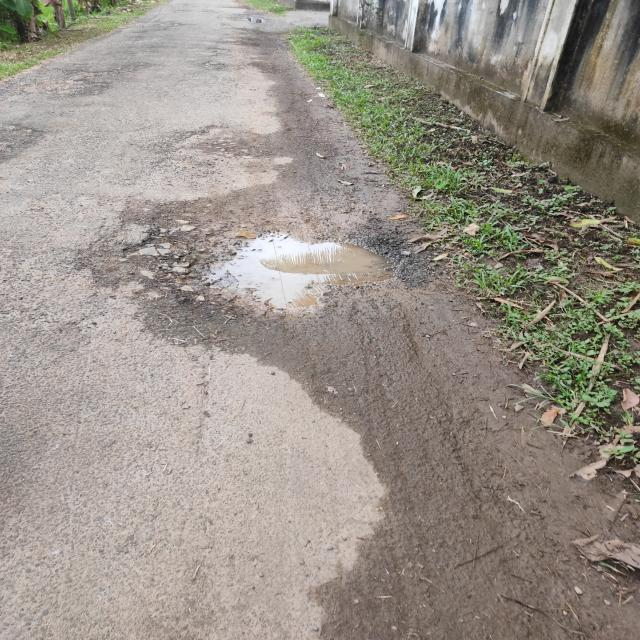potholes: (138, 199, 432, 345), (170, 122, 328, 159), (33, 58, 142, 109), (0, 120, 45, 168)
